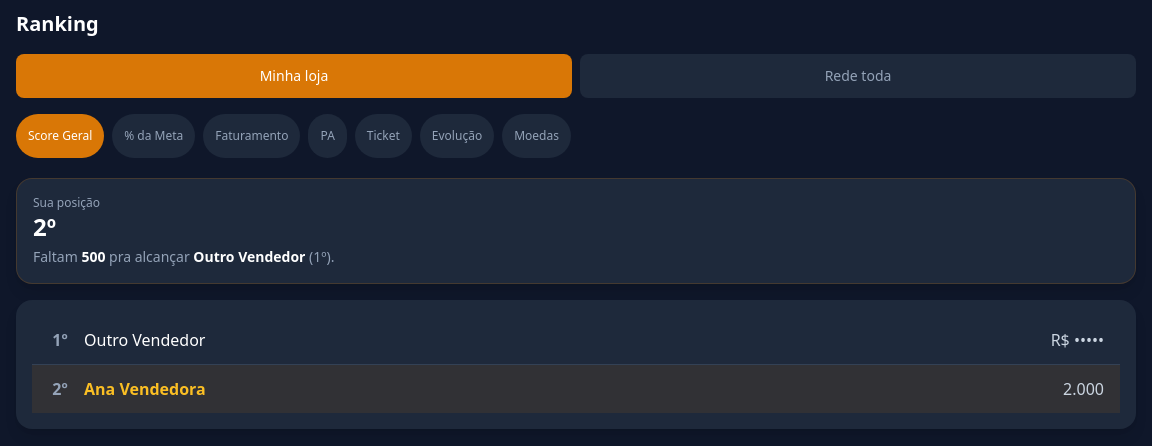
Test case: Ranking — privacidade de faturamento (Fatia 7.5A) › mostra "R$ •••••" pra faturamento alheio (valor null) e o número real só pra própria linha
The width and height of the screenshot is (1152, 446).
Click the button "Faturamento" at (252, 136), box [203, 114, 300, 158]
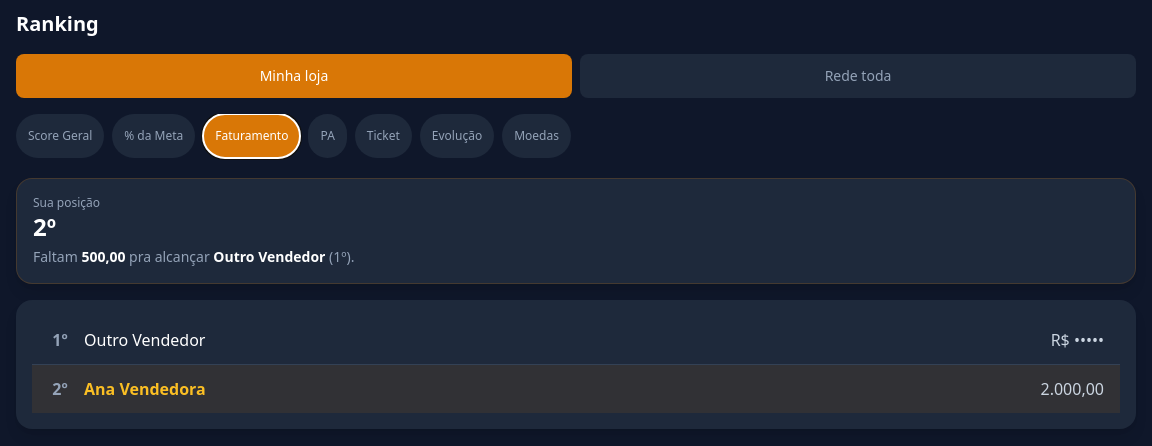
Check: the text "R$ •••••" is shown, box [1051, 329, 1104, 351]
Check: the text "2.000,00" is shown, box [1040, 377, 1104, 401]
